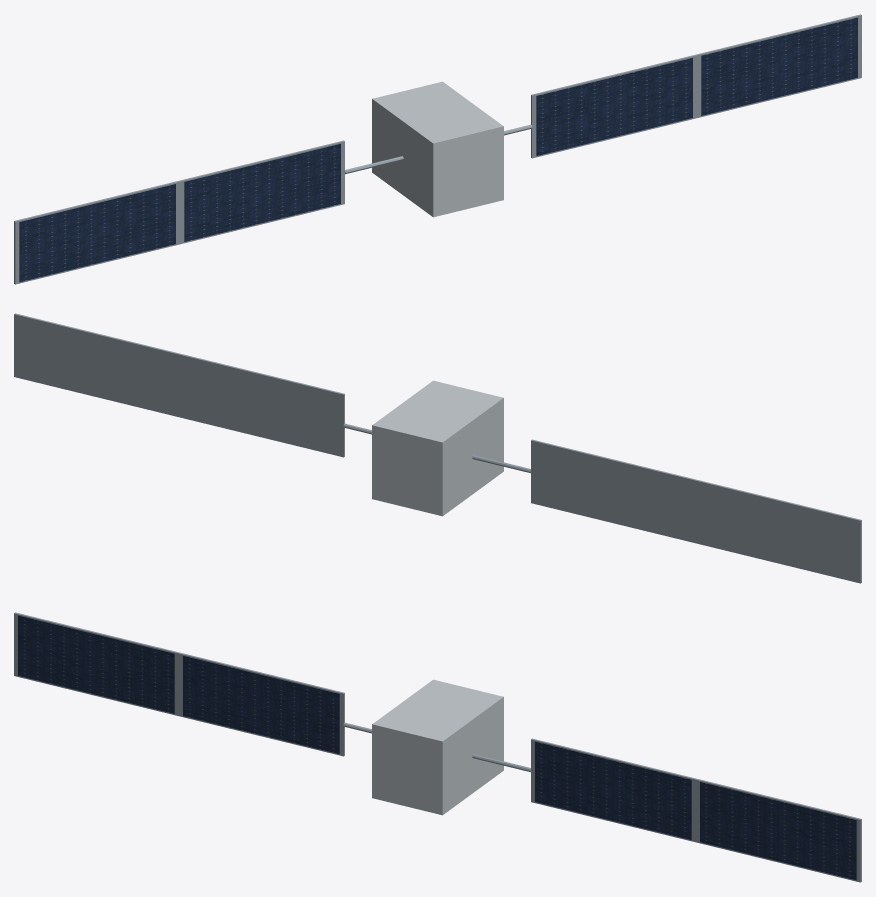
Rendered from ref-link-69792.glb.
3 renders of one model, top to bottom at view 1: azimuth 30°, elevation 25°; view 2: azimuth 150°, elevation 25°; view 3: azimuth 330°, elevation 25°, orthographic.
Parts seen in each view (by area): view 1: Photovoltaic laminates (×4), Spacecraft body, Array frame (×4); view 2: Array frame (×4), Spacecraft body; view 3: Photovoltaic laminates (×4), Spacecraft body, Array frame (×4).
Boxes of the visible parts, <box> form: Photovoltaic laminates (×4): <box>19,17,857,282</box>; Spacecraft body: <box>372,81,503,217</box>; Array frame (×4): <box>14,14,861,284</box>; Array frame (×4): <box>14,313,861,583</box>; Spacecraft body: <box>372,380,503,516</box>; Photovoltaic laminates (×4): <box>18,615,856,880</box>; Spacecraft body: <box>372,679,503,815</box>; Array frame (×4): <box>14,612,861,882</box>.
Size of the model in its own units: 12 by 1 by 1.5.
Materials: 3 (1 with a texture image).
